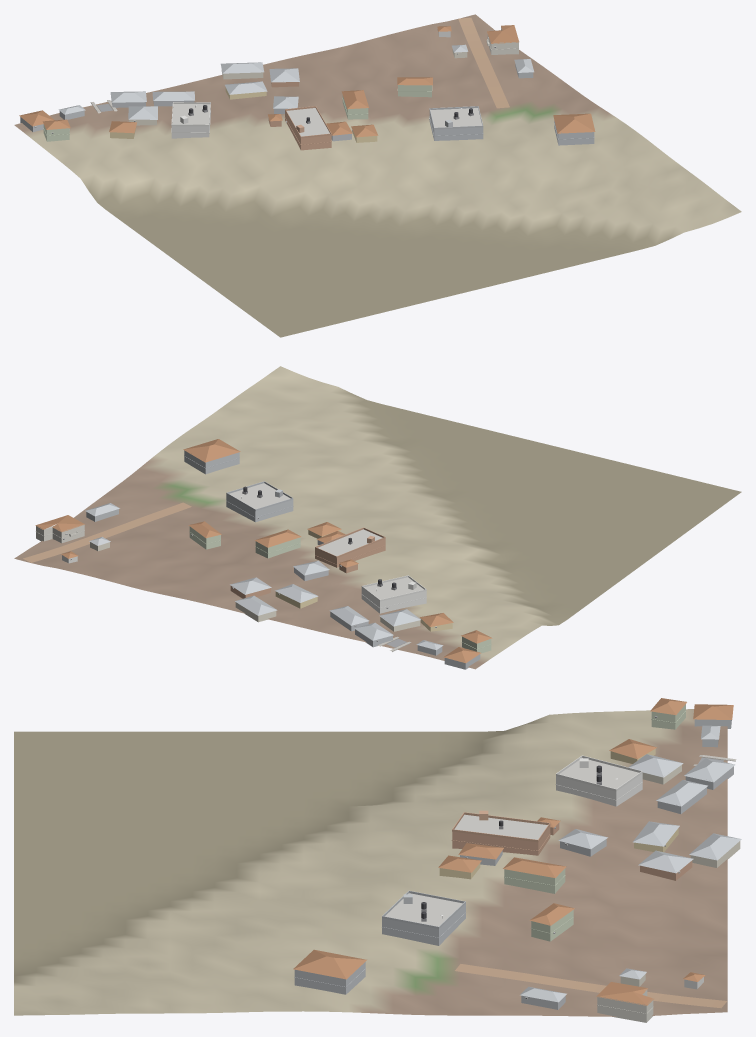
3 renders of one model, top to bottom at view 1: azimuth 30°, elevation 25°; view 2: azimuth 150°, elevation 25°; view 3: azimuth 270°, elevation 25°, orthographic. The views are drawn at different scales.
Visible parts, largest first — view 1: Terrain-col, Buildings-col, Details, Roads-col; view 2: Terrain-col, Buildings-col, Details, Roads-col; view 3: Terrain-col, Buildings-col, Details, Roads-col.
Part boxes in pixels (x1,y1,x2,y2): Terrain-col: (14,14,741,337); Buildings-col: (19,25,595,150); Details: (34,37,594,145); Roads-col: (96,17,509,111); Terrain-col: (14,366,741,669); Buildings-col: (35,439,492,669); Details: (36,456,491,649); Roads-col: (23,502,406,647); Terrain-col: (14,709,727,1016); Buildings-col: (293,698,741,1022); Details: (294,711,685,1013); Roads-col: (455,757,726,1008).
Bounding box in the file's own units: 261 × 19.8 × 261.
